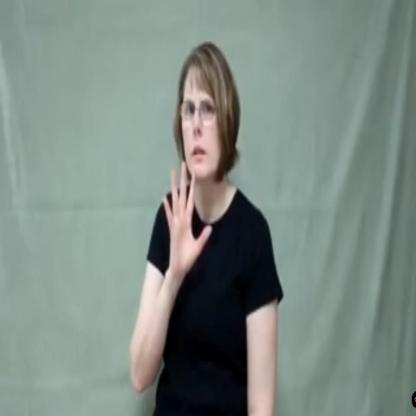Talk: (142, 38, 250, 281)
